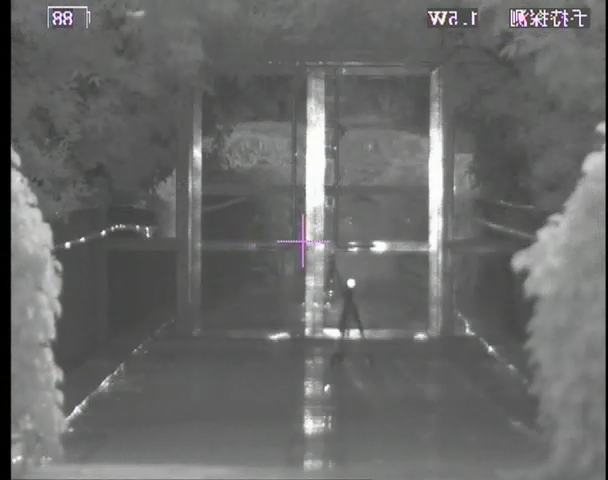my: (345, 277, 357, 289)
